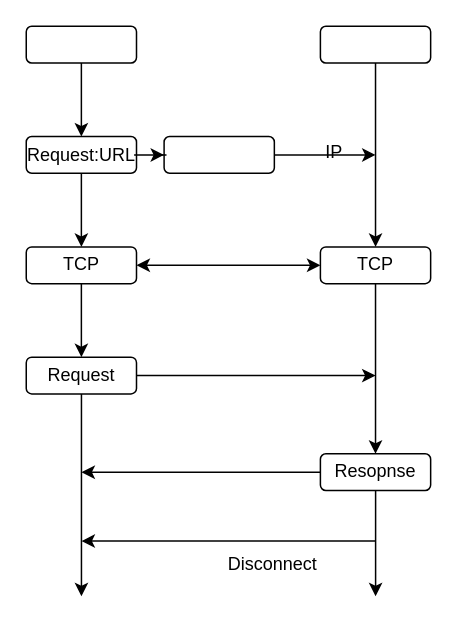
This 458x635 diagram has some shape labels left out. The box of each missing label's shape, as (x1, y1, x2, y2) in pixels:
CLient: (25, 25, 136, 63)
DNS: (163, 135, 274, 173)
Server: (319, 25, 431, 63)
